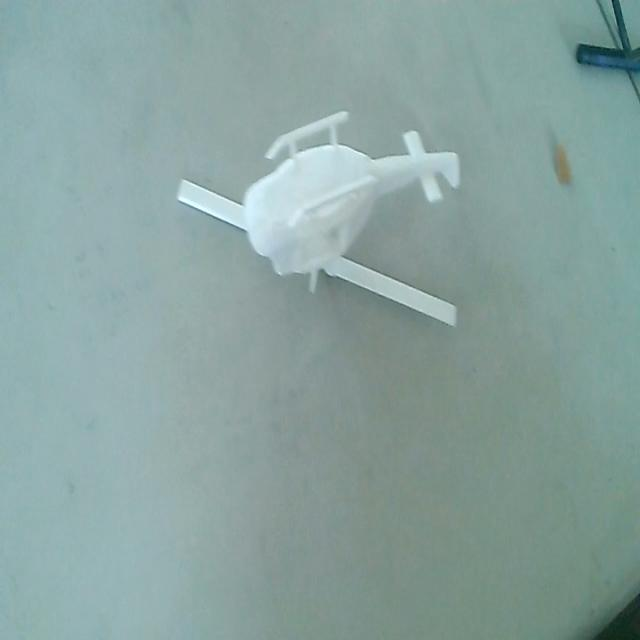Helicopter: (180, 108, 462, 337)
